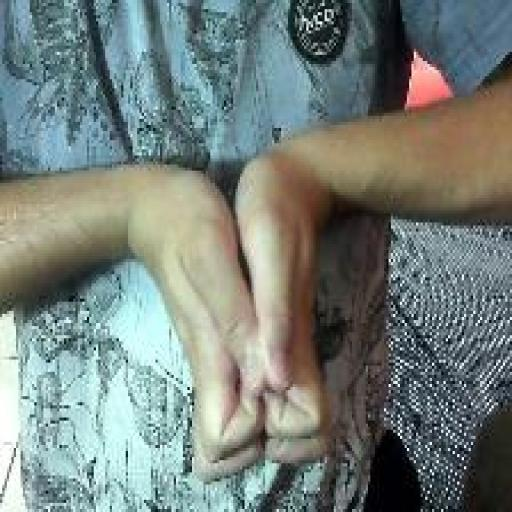I -boar-: (140, 148, 338, 486)
